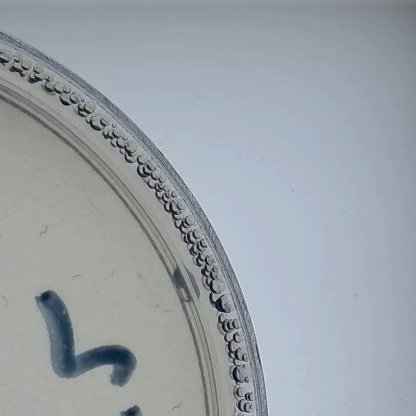worm: (150, 297, 178, 316), (165, 397, 184, 412), (65, 268, 85, 280), (0, 294, 14, 310), (35, 224, 50, 238), (104, 264, 120, 277)
